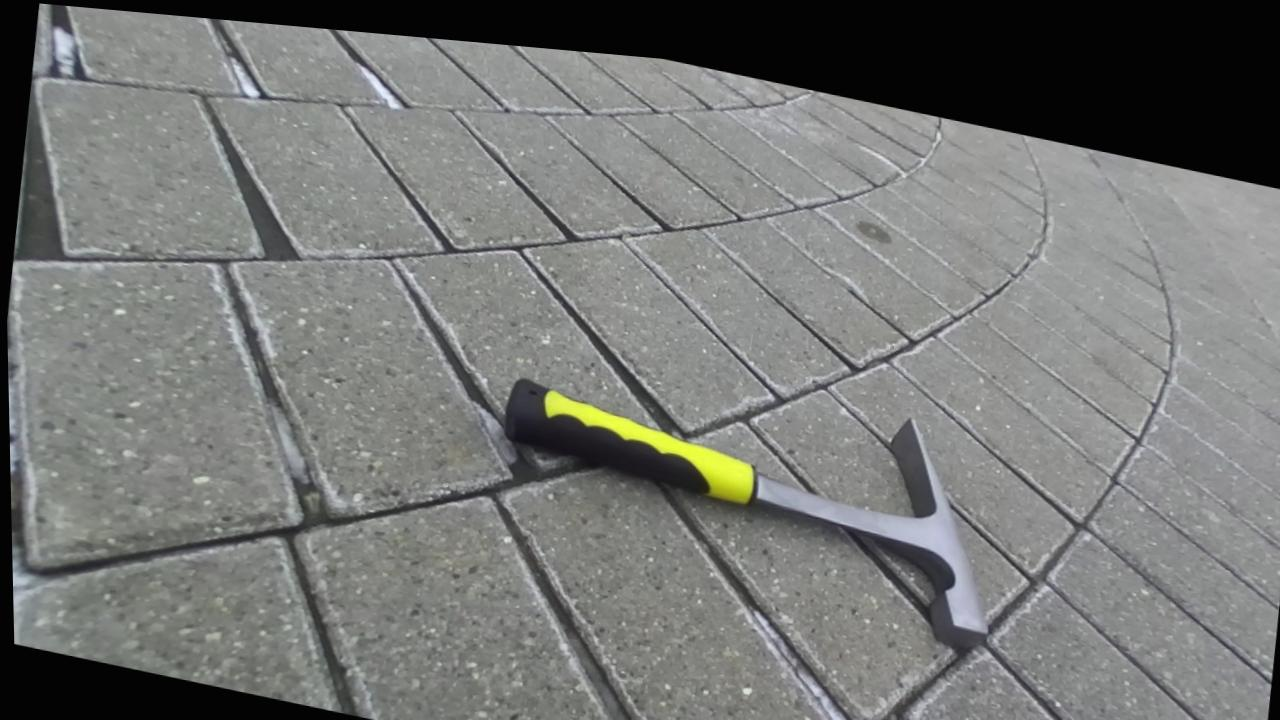pick: (504, 380, 987, 647)
